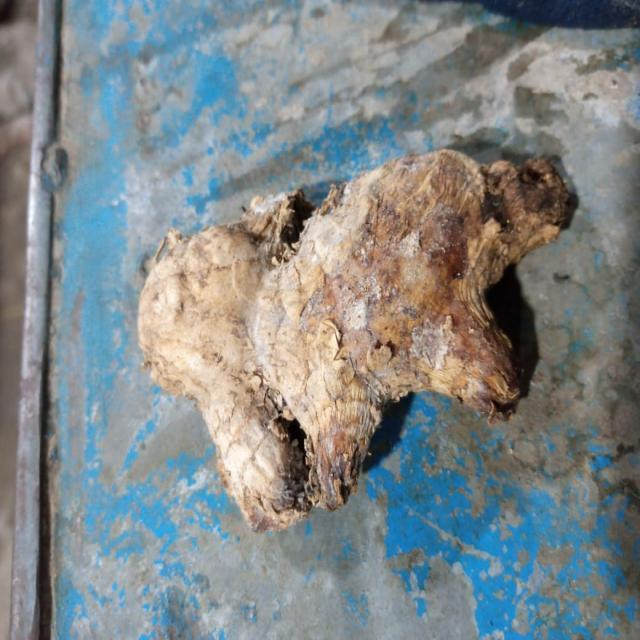ginger: (148, 197, 530, 516)
